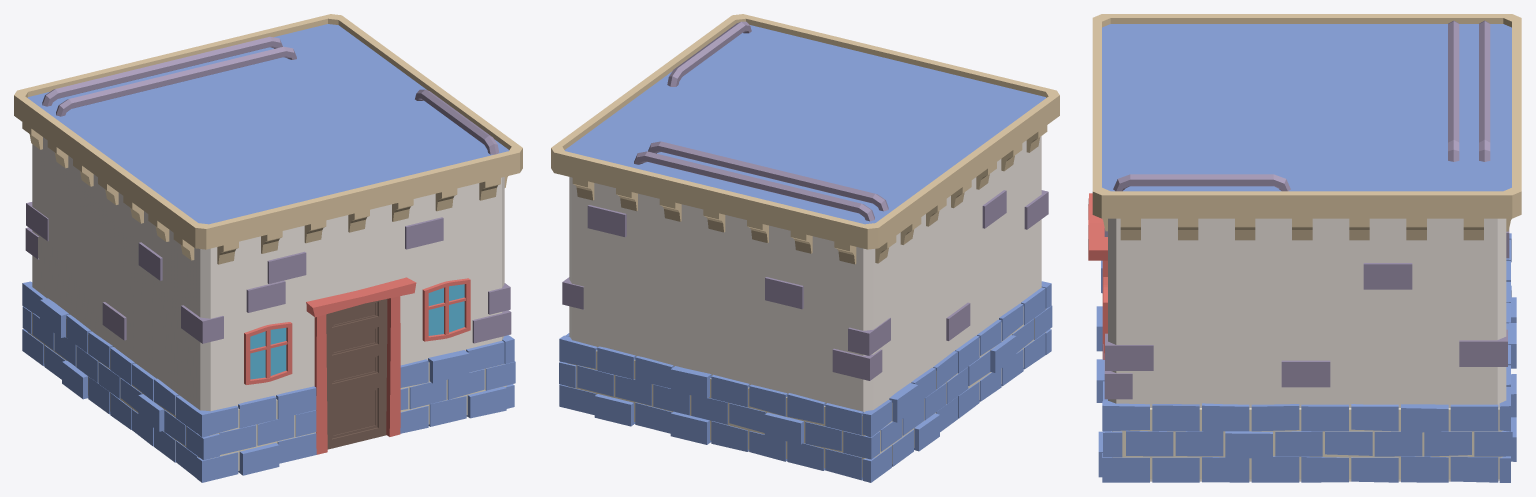
Rendered from 1Story_Mat.obj.
3 renders of one model, left to right at view 1: azimuth 30°, elevation 25°; view 2: azimuth 150°, elevation 25°; view 3: azimuth 270°, elevation 25°, orthographic. The views are drawn at different scales.
Parts seen in each view (by area): view 1: 1Story_Mat_Cube.040; view 2: 1Story_Mat_Cube.040; view 3: 1Story_Mat_Cube.040.
Boxes of the visible parts, left/top/right/bottom form: 1Story_Mat_Cube.040: left=14, top=14, right=522, bottom=482; 1Story_Mat_Cube.040: left=551, top=14, right=1059, bottom=482; 1Story_Mat_Cube.040: left=1088, top=14, right=1521, bottom=482.
Size of the model in its own units: 2.15 by 1.67 by 2.17.
